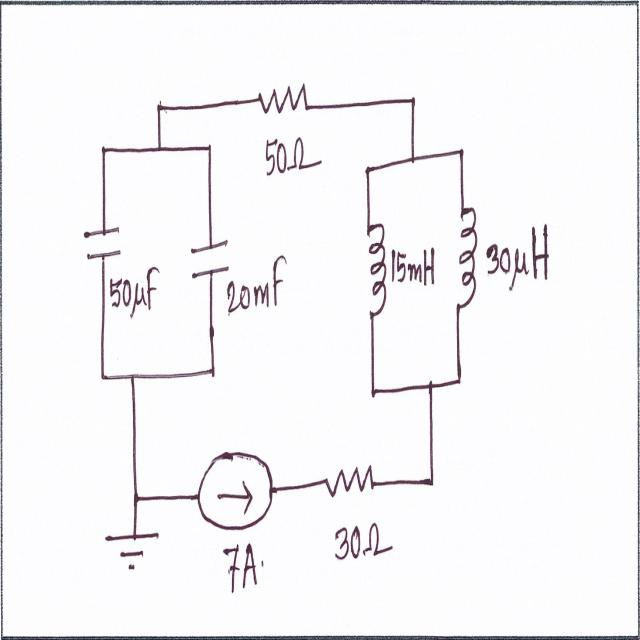capacitor: (189, 234, 232, 286), (82, 220, 126, 269)
current_source: (196, 445, 280, 536)
ground: (101, 529, 165, 578)
inductor: (360, 220, 388, 331), (454, 200, 479, 321)
resistor: (323, 463, 376, 508), (251, 81, 310, 119)
